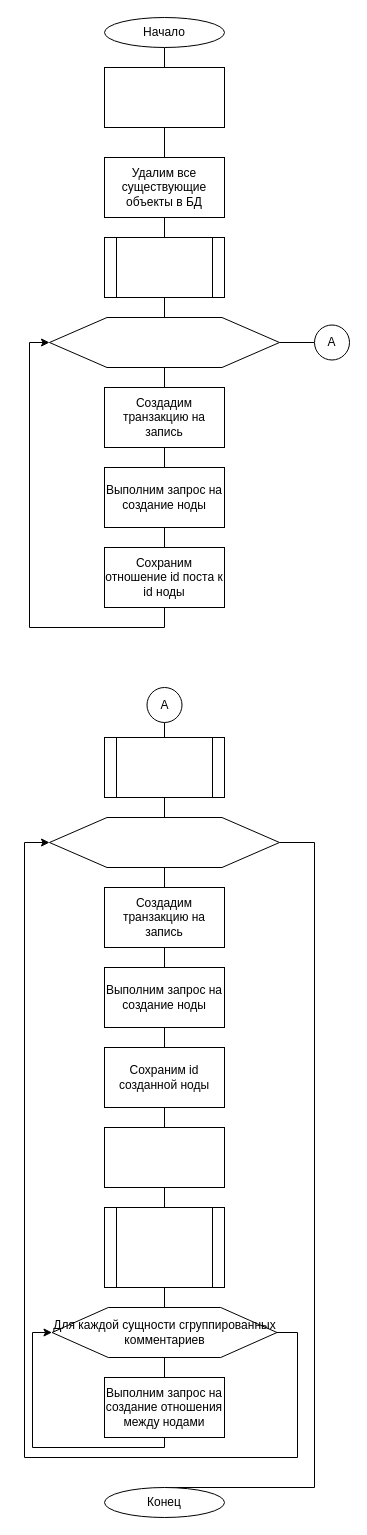
Image size: 367x1535. Some labels were removed from this diagram. Each missing label, with the centre of its shape:
Для каждого полученного подписчика: point (164, 842)
Для каждого полученного поста: point (164, 342)
Достанем все комментарии из объекта: point (164, 1157)
Подключимся к графовой базе данных: point (164, 97)
Получим все посты из ES: point (164, 267)
Получим всех подписчиков с комментариями из ES: point (164, 767)
Сгруппируем комментарии по id поста и посчитаем их количество: point (164, 1247)
